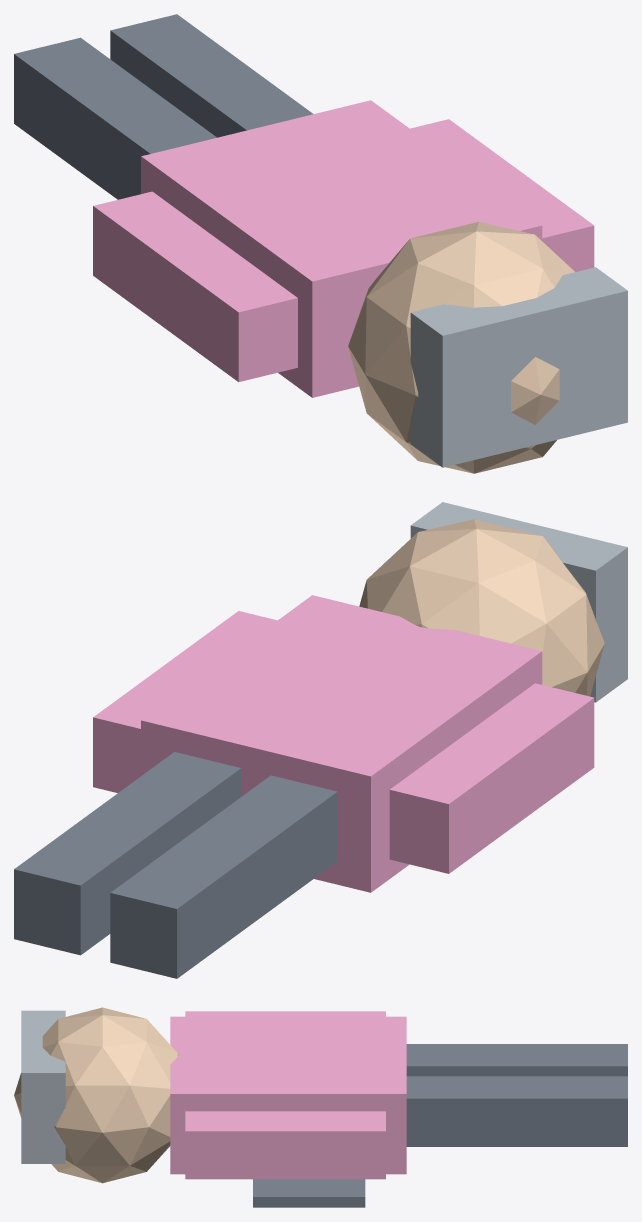
The model's file is hr_variant_5.glb.
3 renders of one model, top to bottom at view 1: azimuth 30°, elevation 25°; view 2: azimuth 150°, elevation 25°; view 3: azimuth 270°, elevation 25°, orthographic. The views are drawn at different scales.
Visible parts, largest first — view 1: torso_2, hair_6, head_5, arm_l_3, leg_l_0, leg_r_1, arm_r_4; view 2: torso_2, leg_l_0, head_5, arm_l_3, leg_r_1, arm_r_4, hair_6; view 3: torso_2, head_5, leg_r_1, arm_r_4, leg_l_0, hair_6, tablet_7, arm_l_3.
Boxes of the visible parts, <box> form: torso_2: <box>141,100,542,397</box>; hair_6: <box>410,267,627,467</box>; head_5: <box>348,222,574,473</box>; arm_l_3: <box>93,191,297,382</box>; leg_l_0: <box>14,37,216,199</box>; leg_r_1: <box>110,14,313,137</box>; arm_r_4: <box>410,119,594,271</box>; torso_2: <box>141,595,542,892</box>; leg_l_0: <box>110,775,337,978</box>; head_5: <box>359,519,604,696</box>; arm_l_3: <box>389,683,594,873</box>; leg_r_1: <box>14,752,241,955</box>; arm_r_4: <box>93,611,277,792</box>; hair_6: <box>410,502,627,702</box>; torso_2: <box>170,1016,406,1174</box>; head_5: <box>14,1007,178,1183</box>; leg_r_1: <box>406,1076,627,1146</box>; arm_r_4: <box>185,1111,385,1179</box>; leg_l_0: <box>406,1044,627,1076</box>; hair_6: <box>21,1010,65,1163</box>; tablet_7: <box>253,1179,365,1207</box>; arm_l_3: <box>185,1011,385,1016</box>.
Bounding box in the file's own units: 0.96 × 0.6 × 2.08.
